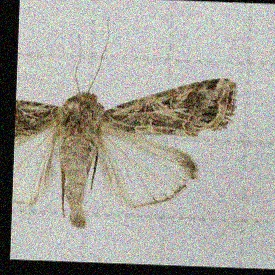Spodoptera litura: (15, 17, 236, 230)
